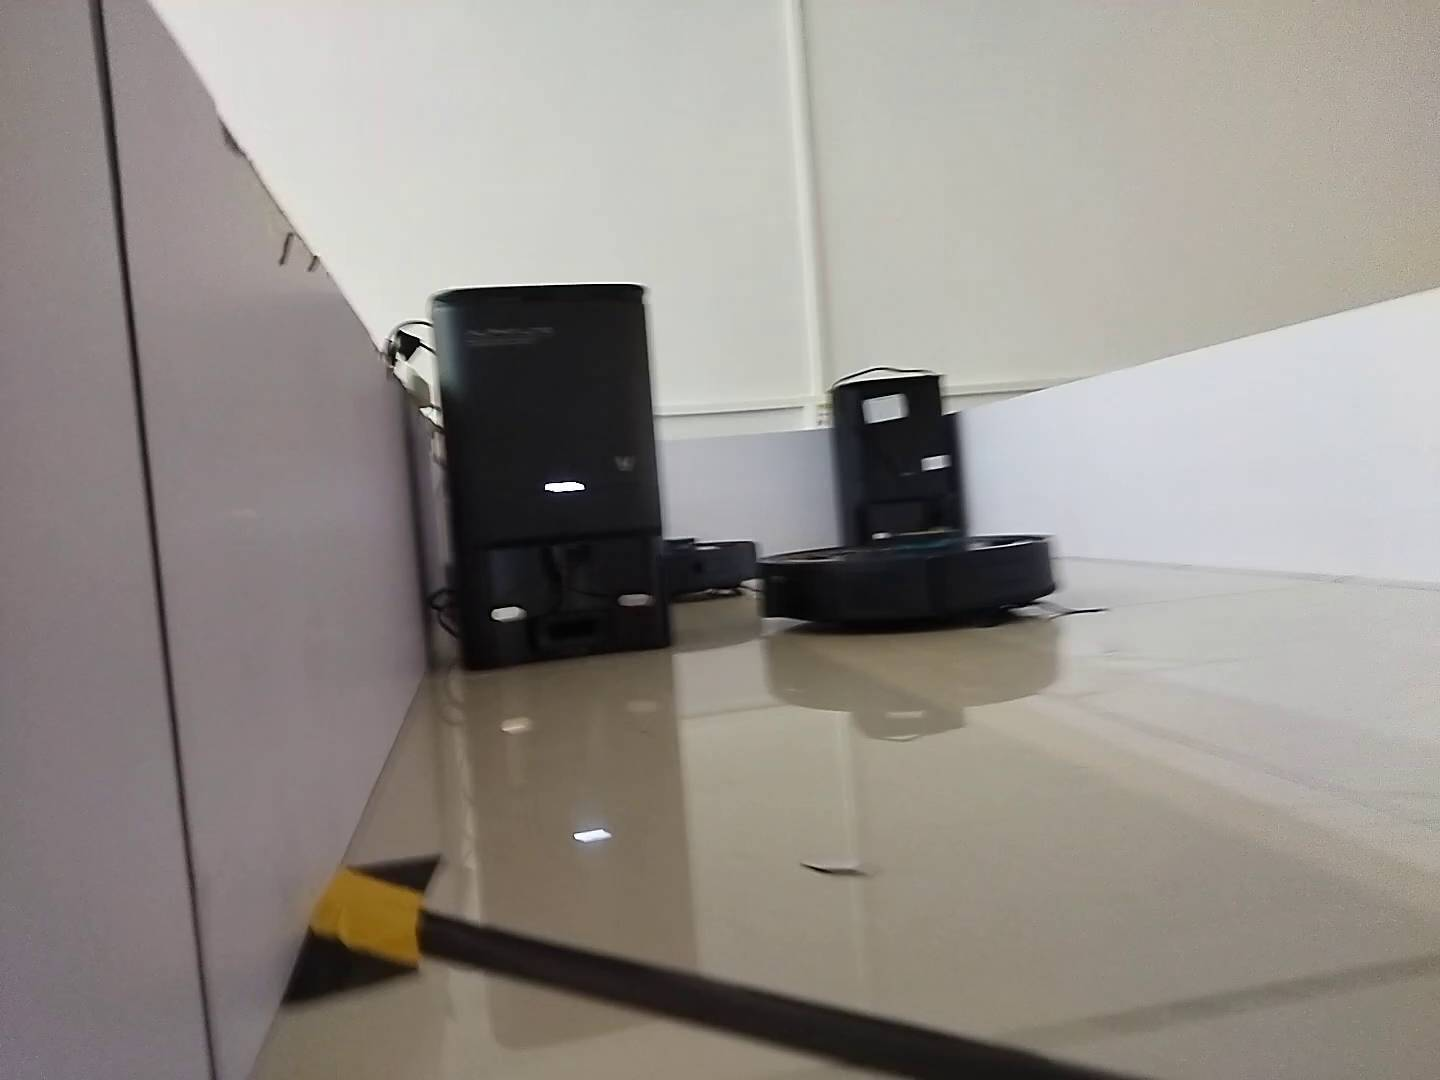dust collecting barrel: (430, 282, 674, 673), (827, 376, 955, 542)
